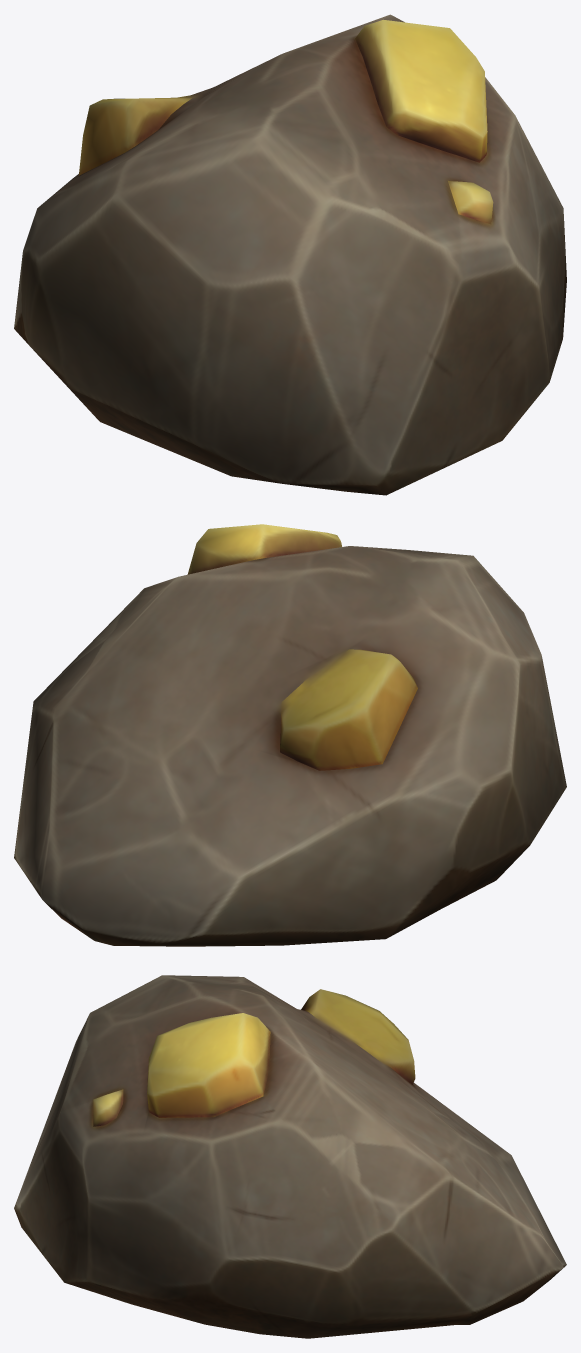
The model's file is SM_Gem_Gold_003.fbx.
The picture shows the model from 3 angles, top to bottom: view 1: azimuth 30°, elevation 25°; view 2: azimuth 150°, elevation 25°; view 3: azimuth 270°, elevation 25°; orthographic projection. The views are drawn at different scales.
Visible parts, largest first — view 1: SM_Gem_Gold_003; view 2: SM_Gem_Gold_003; view 3: SM_Gem_Gold_003.
Part boxes in pixels (x1,y1,x2,y2): SM_Gem_Gold_003: [14, 14, 566, 495]; SM_Gem_Gold_003: [14, 524, 566, 946]; SM_Gem_Gold_003: [14, 975, 566, 1338].
Size of the model in its own units: 55.49 by 35.33 by 65.87.
